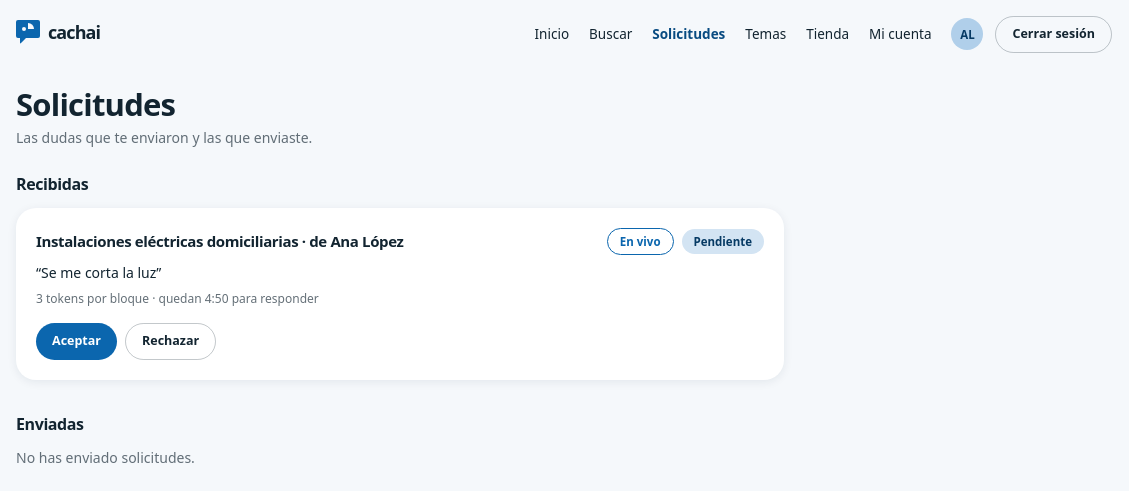
Test: solicitudes › el tutor ve el tiempo que le queda y puede aceptar
The image size is (1129, 491).
expect the text "3 tokens por bloque · quedan 4:50 para responder" is shown: met, box [36, 290, 319, 307]
Click the button "Aceptar": point(76, 341) [36, 323, 117, 360]
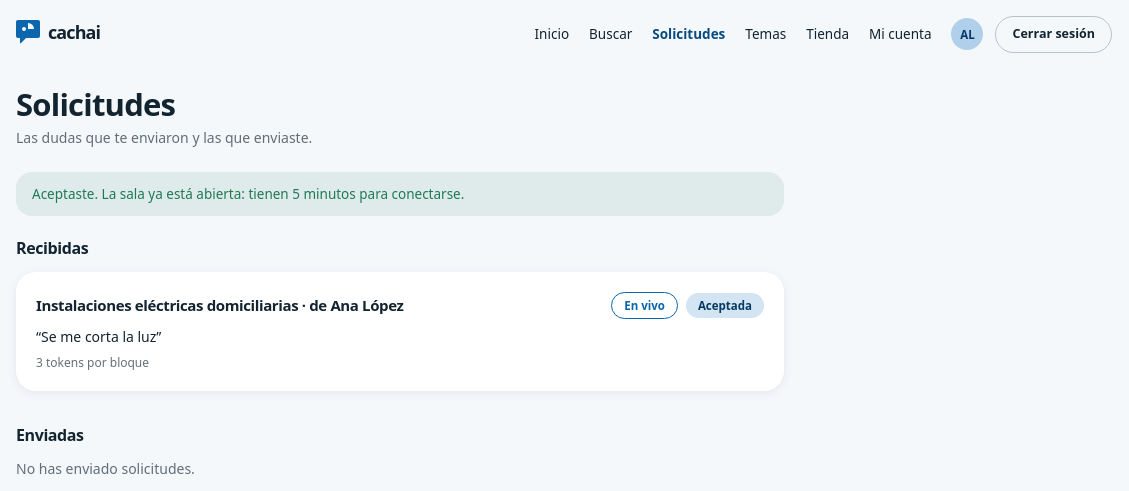
expect the text "Aceptaste. La sala ya está abierta: tienen 5 minutos para conectarse." is shown: met, box [16, 172, 784, 216]
expect the text "Aceptada" is shown: met, box [686, 293, 764, 318]
